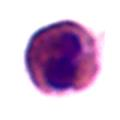monocyte: (19, 15, 105, 97)
